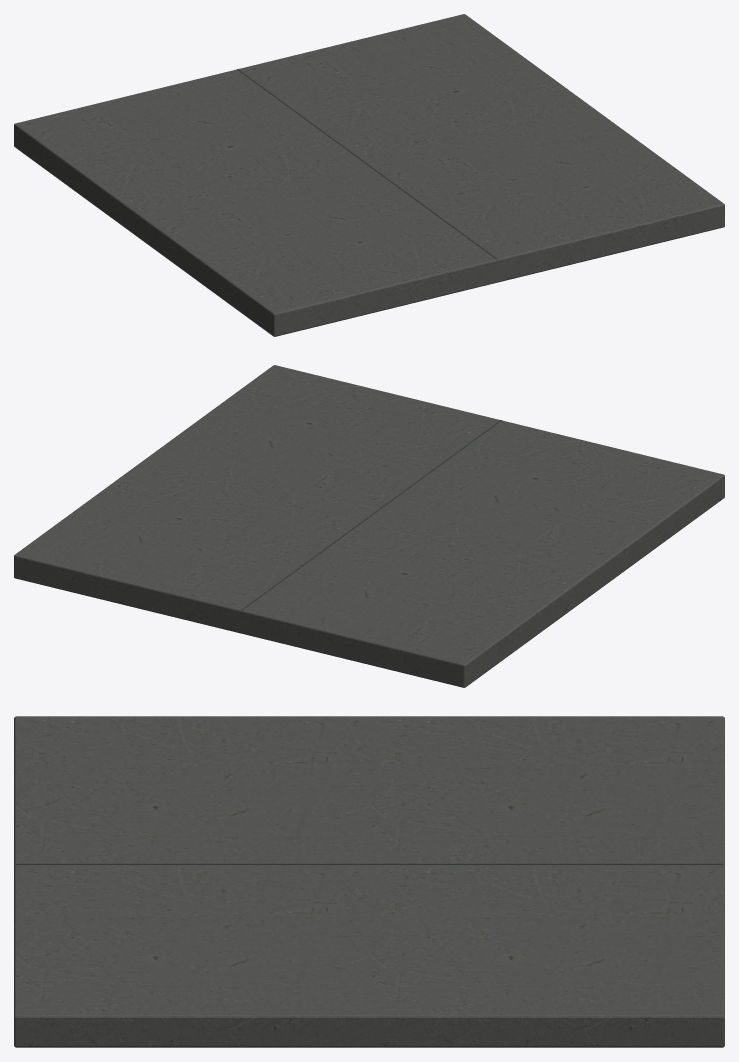
Rendered from floor_4m.glb.
3 renders of one model, top to bottom at view 1: azimuth 30°, elevation 25°; view 2: azimuth 150°, elevation 25°; view 3: azimuth 270°, elevation 25°, orthographic. The views are drawn at different scales.
Parts seen in each view (by area): view 1: Reinforced concrete floor slab, Saw cut joint; view 2: Reinforced concrete floor slab, Saw cut joint; view 3: Reinforced concrete floor slab, Saw cut joint.
Boxes of the visible parts, x1,y1,x2,y2 form: Reinforced concrete floor slab: [14, 14, 724, 336]; Saw cut joint: [237, 69, 497, 259]; Reinforced concrete floor slab: [14, 365, 724, 687]; Saw cut joint: [241, 420, 501, 610]; Reinforced concrete floor slab: [14, 716, 724, 1047]; Saw cut joint: [15, 863, 723, 864].
Size of the model in its own units: 4 by 0.2025 by 4.
Materials: 2 (1 with a texture image).
